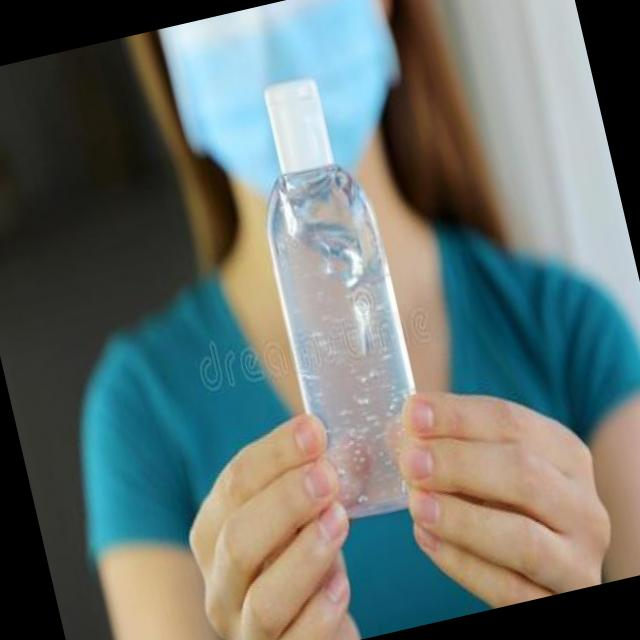sanitizer: (225, 62, 442, 536)
